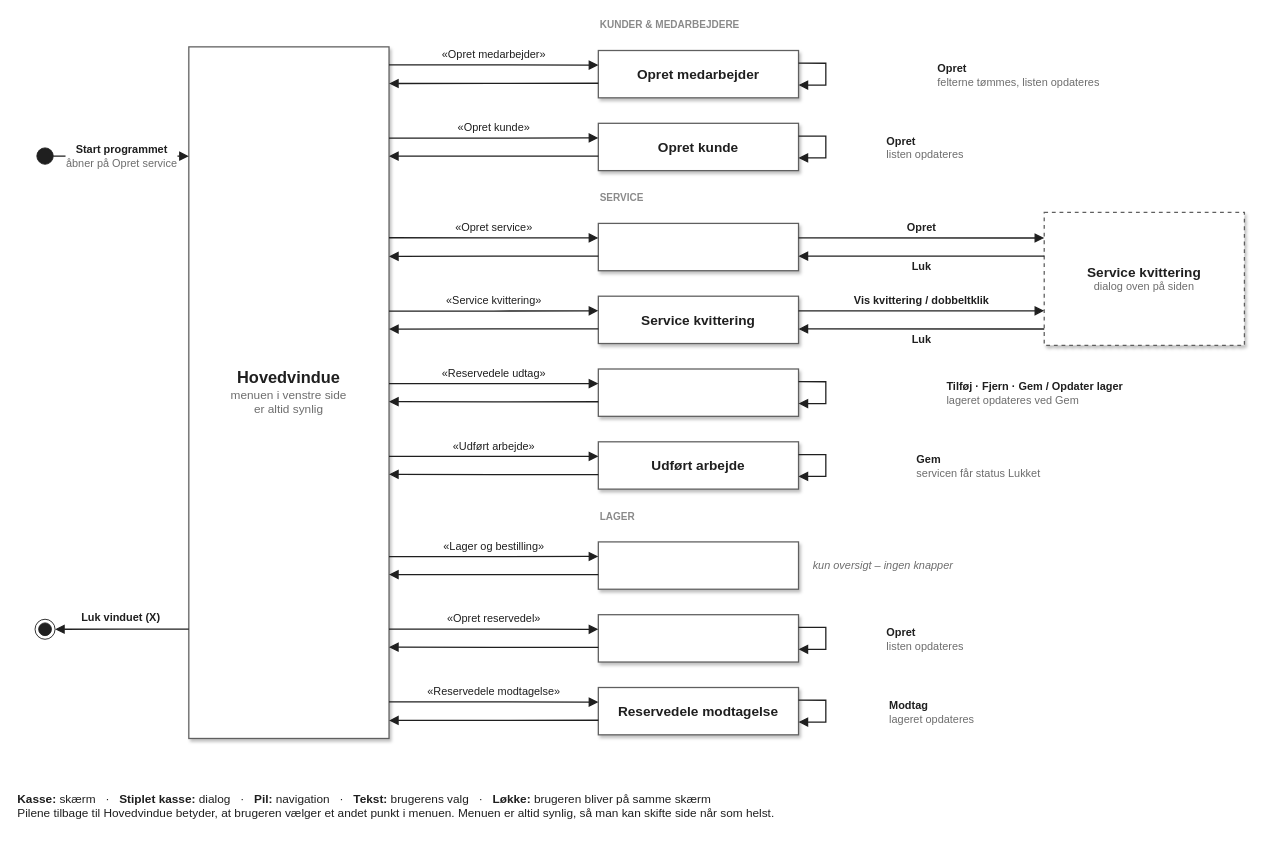
This 1269x855 diagram has some shape labels left out. Here are the shapes that lost their labels. From the top down, the centre of each, then its label:
At (699,248): "Opret service".
At (699,393): "Reservedele udtag".
At (699,566): "Lager og bestilling".
At (699,639): "Opret reservedel".
